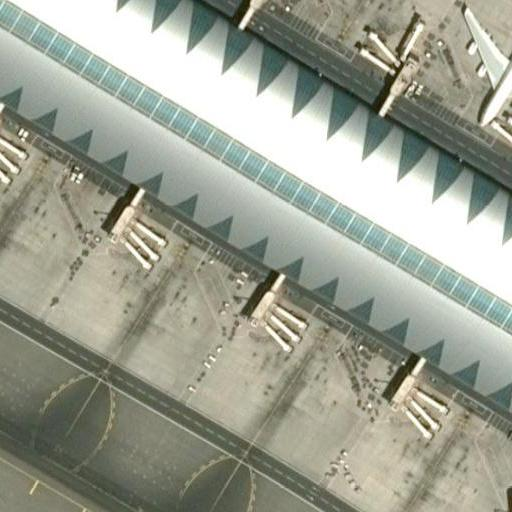Aircraft: (453, 0, 512, 133)
